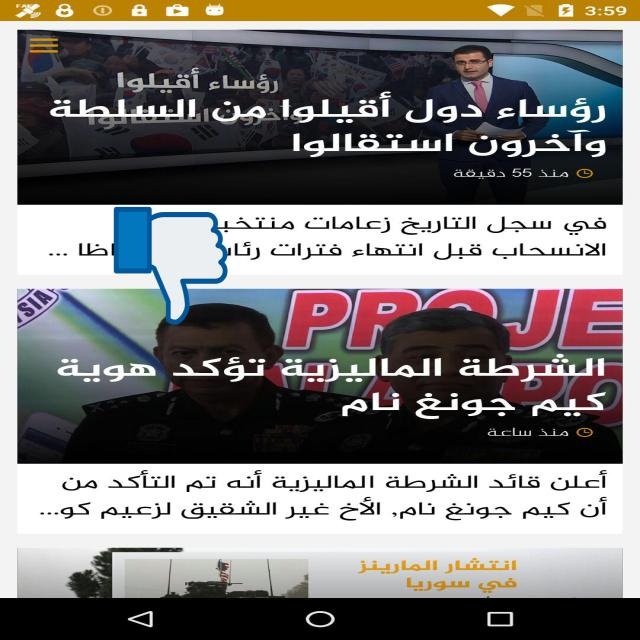obstruction: (114, 205, 228, 328)
